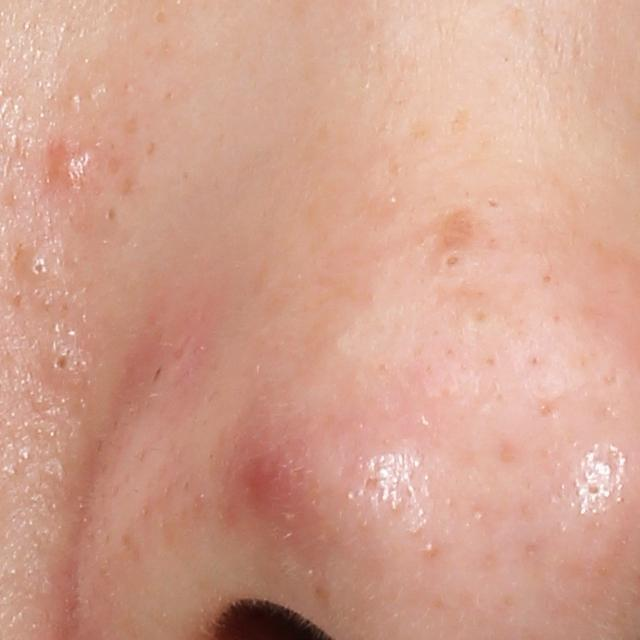comedo: (426, 243, 477, 288), (39, 339, 84, 388), (16, 245, 61, 292), (484, 195, 503, 214), (101, 204, 119, 223), (422, 539, 440, 558)
papule: (231, 445, 290, 520), (44, 137, 101, 198)
